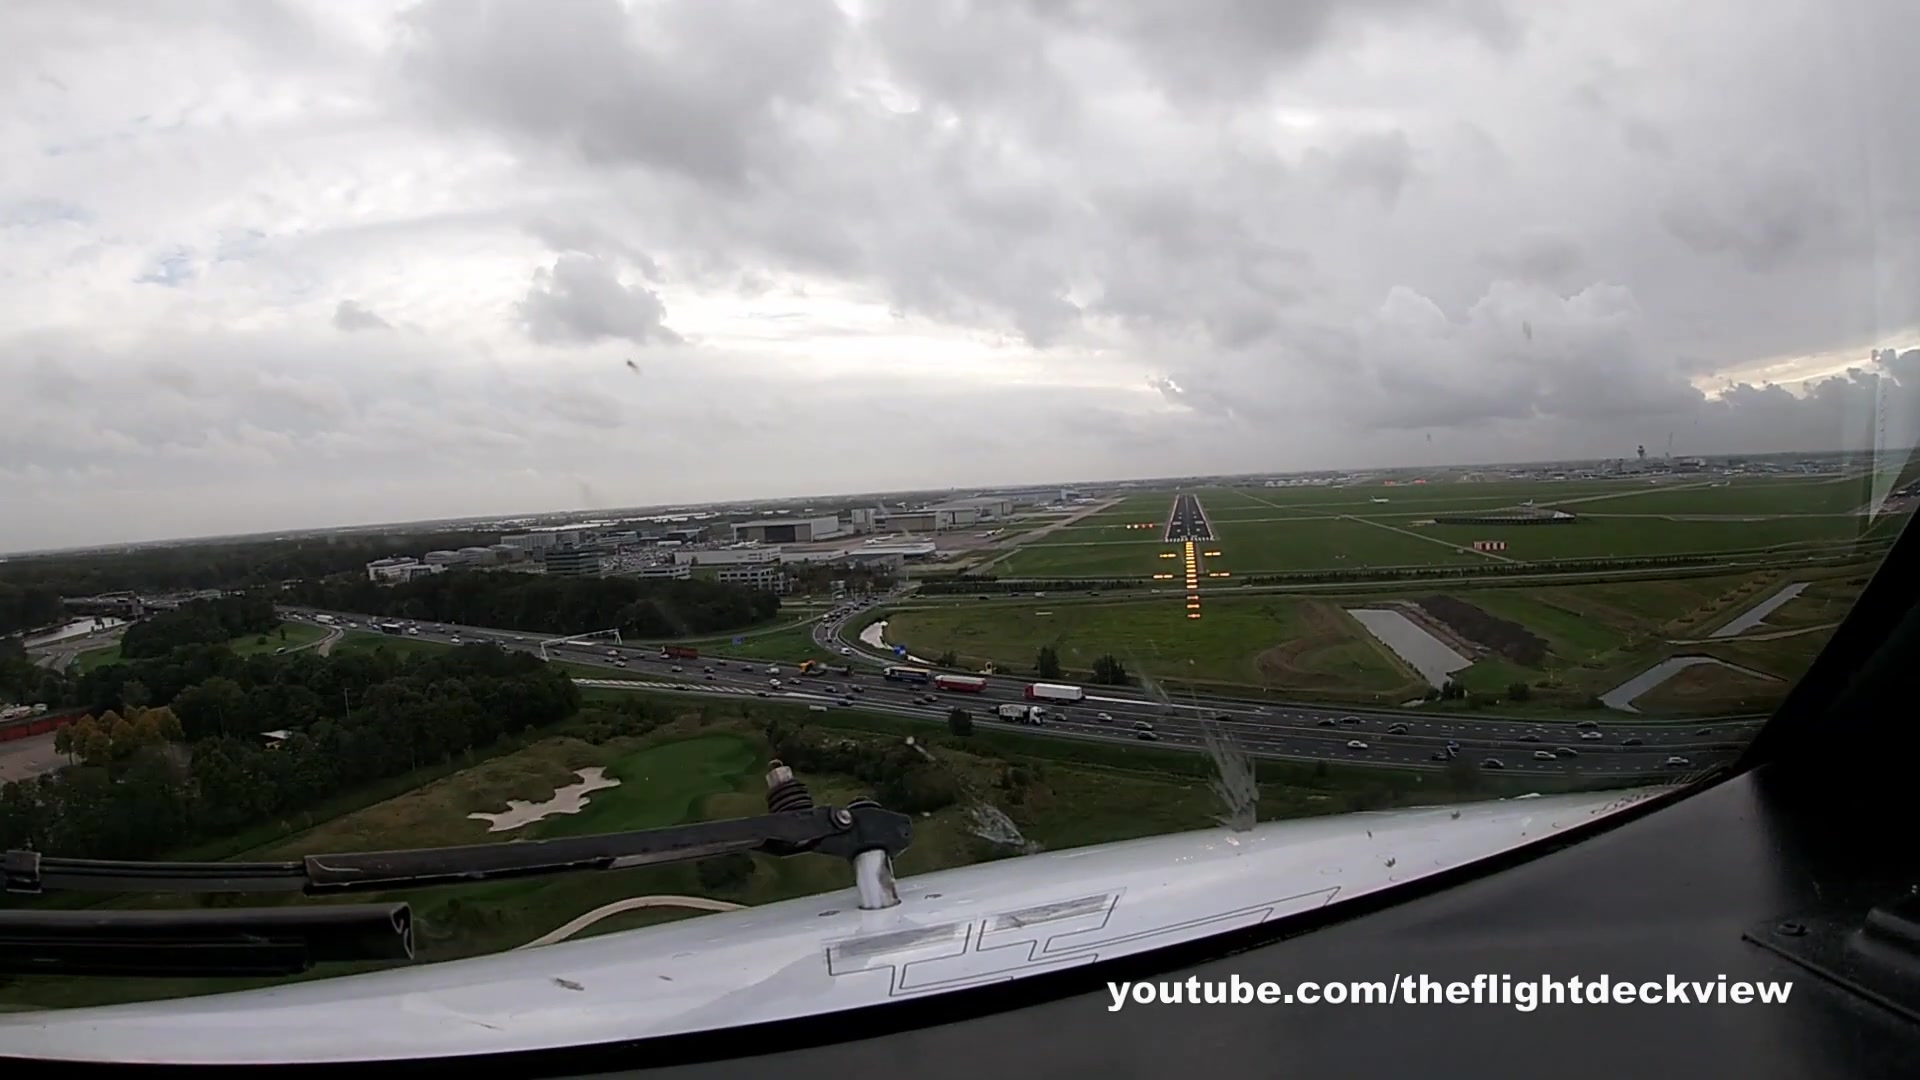entrance: (1163, 534, 1215, 543)
runway: (1160, 491, 1217, 546)
